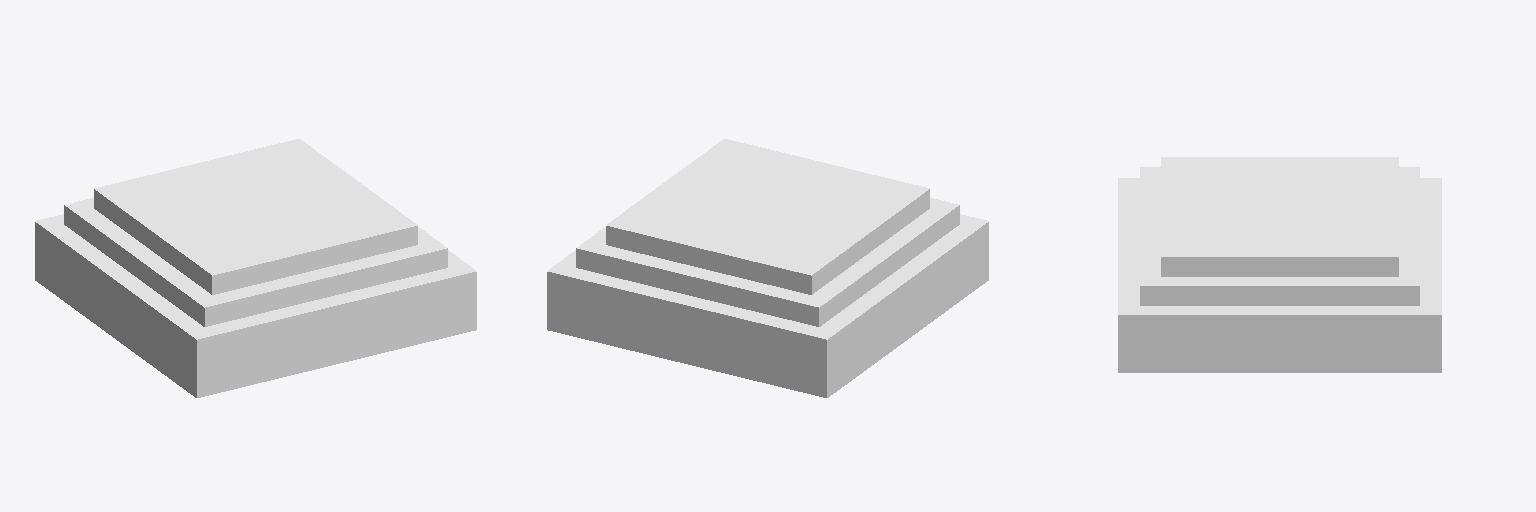
The model's file is StoneColumnBase.obj.
3 views of the same model, side by side, from view 1: azimuth 30°, elevation 25°; view 2: azimuth 150°, elevation 25°; view 3: azimuth 270°, elevation 25° (orthographic).
Visible parts, largest first — view 1: StoneColumnBase; view 2: StoneColumnBase; view 3: StoneColumnBase.
Boxes of the visible parts, box(x1,y1,x2,y2) form: StoneColumnBase: box(35, 138, 476, 397); StoneColumnBase: box(547, 138, 988, 397); StoneColumnBase: box(1118, 157, 1441, 372).
Bounding box in the file's own units: 15 × 5 × 15.